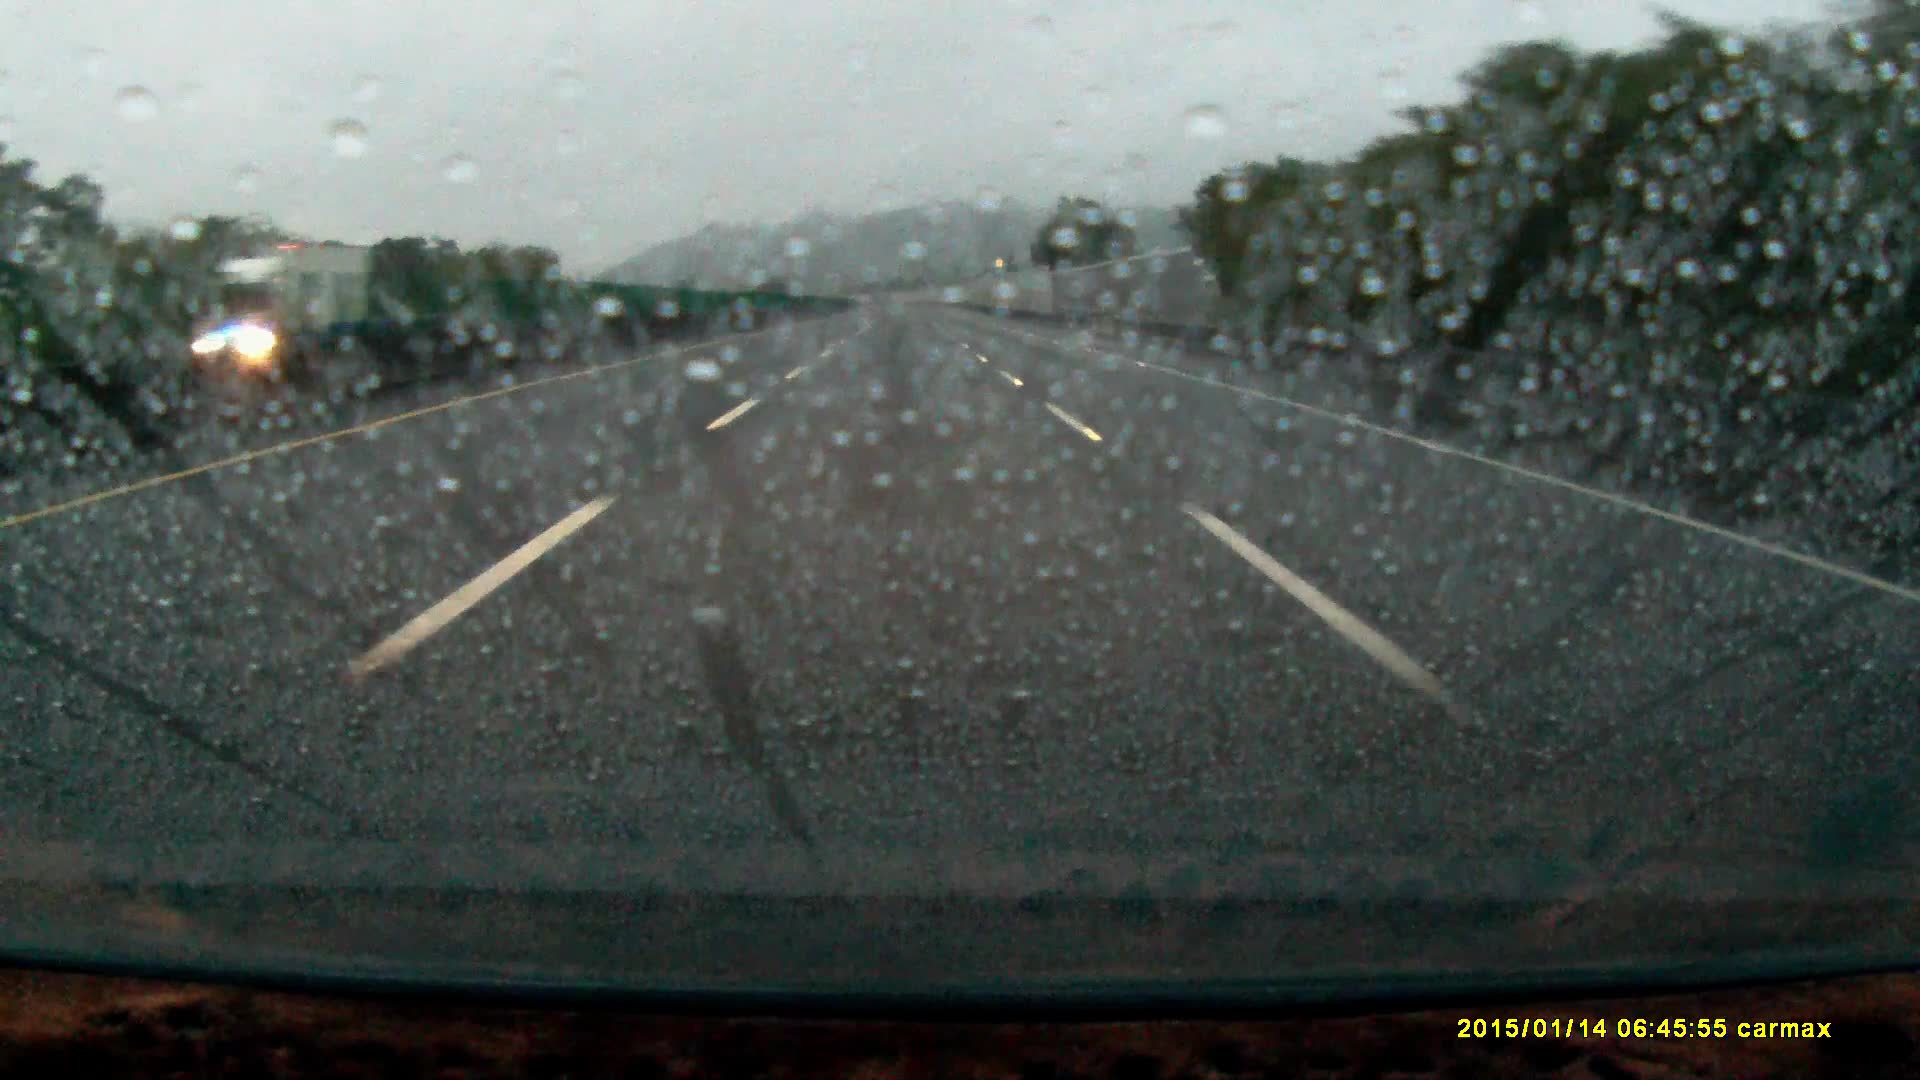vehicle: (189, 244, 375, 371)
